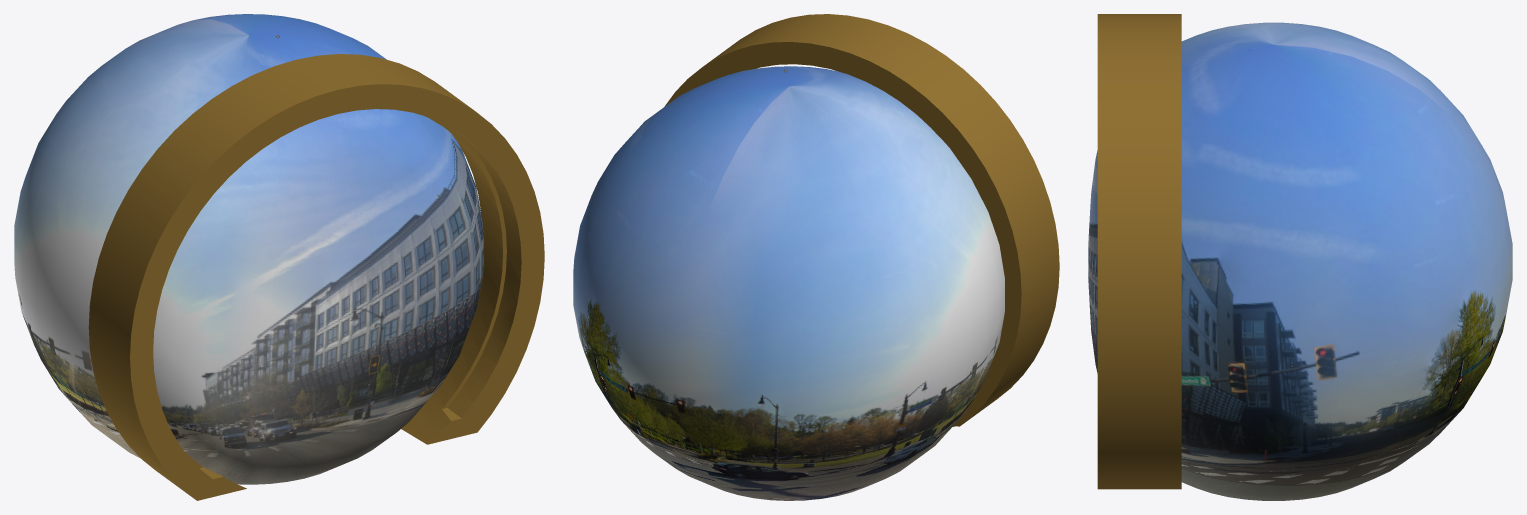
The model's file is enter_the_portal_round_2.glb.
3 renders of one model, left to right at view 1: azimuth 30°, elevation 25°; view 2: azimuth 150°, elevation 25°; view 3: azimuth 270°, elevation 25°, orthographic. The views are drawn at different scales.
Parts seen in each view (by area): view 1: Object003_mat_0_0, Tube002; view 2: Object003_mat_0_0, Tube002; view 3: Object003_mat_0_0, Tube002.
Part boxes in pixels (x1,y1,x2,y2): Object003_mat_0_0: (14, 14, 483, 484); Tube002: (88, 54, 544, 500); Object003_mat_0_0: (573, 66, 1004, 500); Tube002: (664, 14, 1059, 426); Object003_mat_0_0: (1088, 22, 1512, 500); Tube002: (1097, 14, 1181, 489).
Bounding box in the file's own units: 0.0109 × 0.011 × 0.0095.
2 materials, 1 textured.
